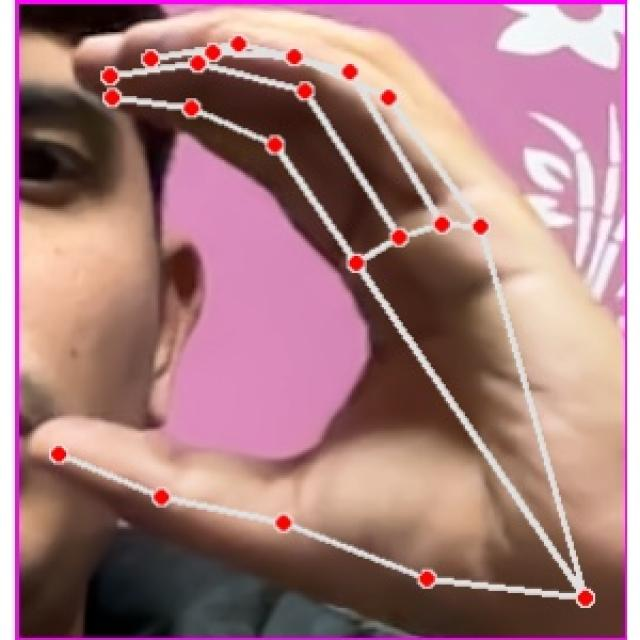C: (49, 6, 624, 640)
